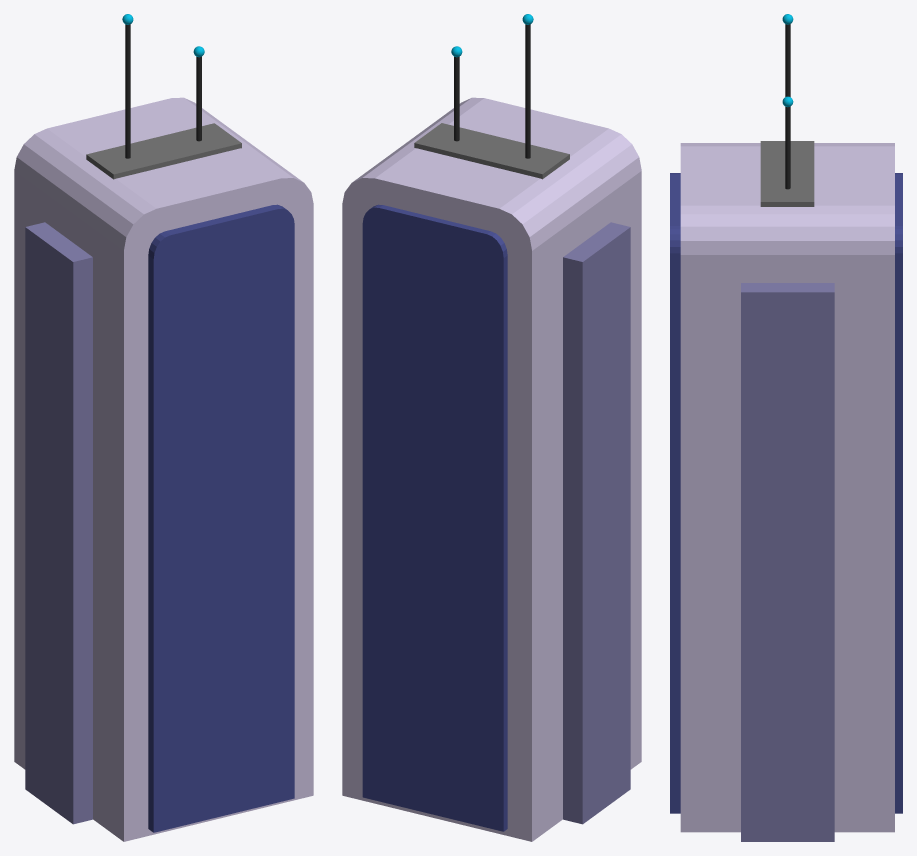
File: Building5.fbx
3 renders of one model, left to right at view 1: azimuth 30°, elevation 25°; view 2: azimuth 150°, elevation 25°; view 3: azimuth 270°, elevation 25°, orthographic. The views are drawn at different scales.
Visible parts, largest first — view 1: Cube.001, Cube, Cube.004, Cube.002, Cylinder; view 2: Cube.003, Cube, Cube.004, Cube.002, Cylinder; view 3: Cube, Cube.004, Cube.001, Cube.003, Cube.002, Cylinder.001.
Boxes of the visible parts, left/top/right/bottom form: Cube.001: left=148, top=204, right=294, bottom=832; Cube: left=14, top=97, right=313, bottom=841; Cube.004: left=25, top=222, right=92, bottom=824; Cube.002: left=86, top=123, right=241, bottom=179; Cylinder: left=125, top=24, right=130, bottom=158; Cube.003: left=362, top=204, right=507, bottom=831; Cube: left=342, top=97, right=641, bottom=841; Cube.004: left=563, top=222, right=630, bottom=824; Cube.002: left=414, top=123, right=569, bottom=179; Cylinder: left=525, top=24, right=530, bottom=158; Cube: left=680, top=143, right=894, bottom=832; Cube.004: left=741, top=283, right=834, bottom=841; Cube.001: left=670, top=173, right=680, bottom=813; Cube.003: left=895, top=173, right=902, bottom=813; Cube.002: left=760, top=141, right=814, bottom=206; Cylinder.001: left=785, top=106, right=790, bottom=189.
Bounding box in the file's own units: 967 × 3112 × 869.
